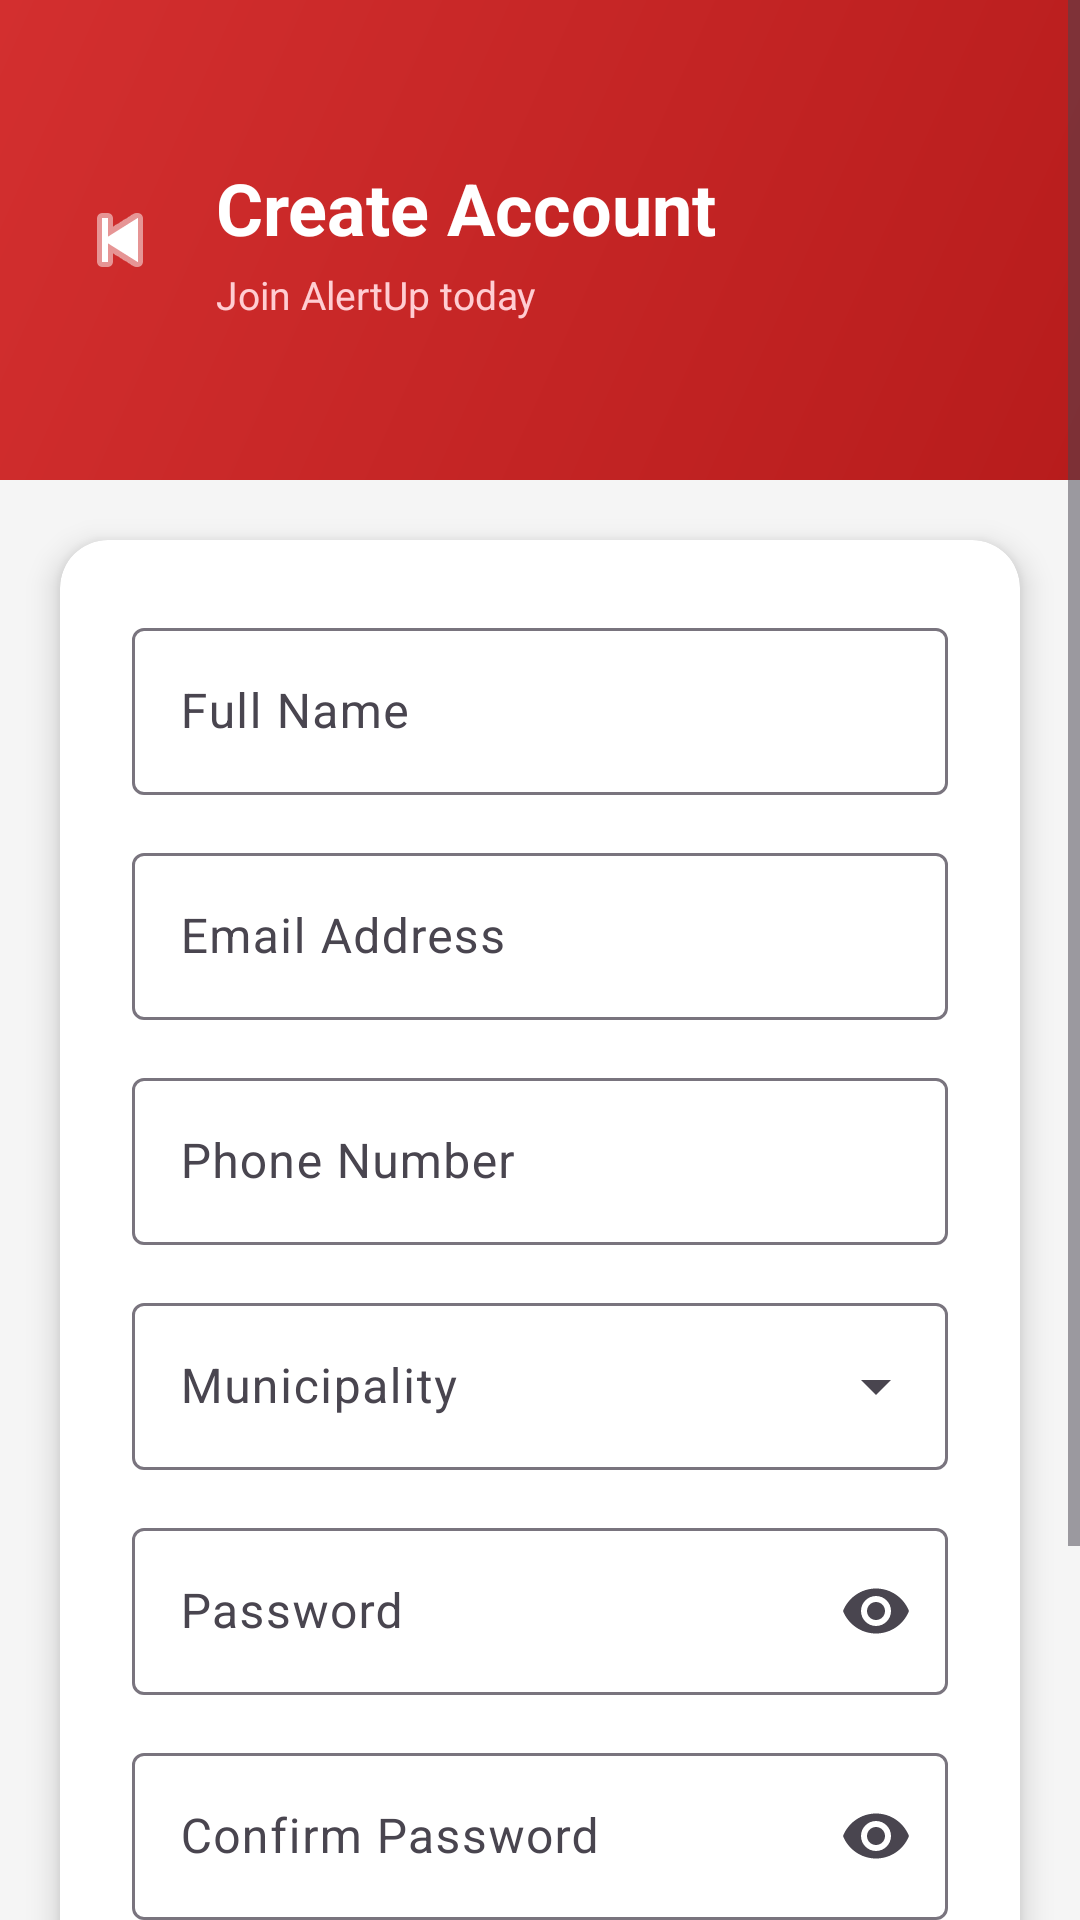

Named icons in this screenshot (1080px x 1920px) and their bounding boxes, (x1, y1, x2, y2):
Back: (97, 213, 143, 267)
